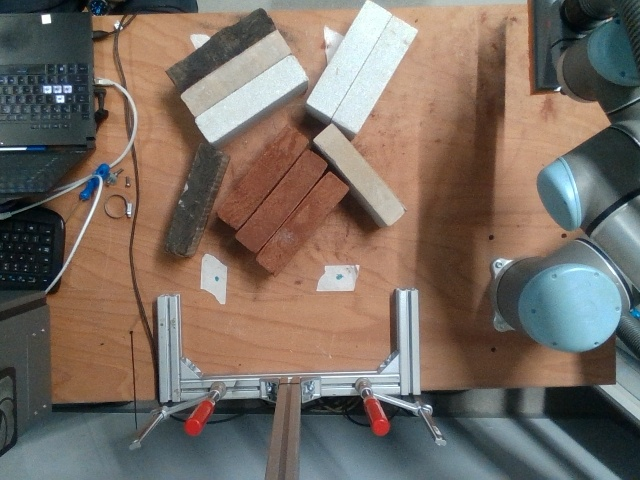brick-side: (258, 172, 346, 274), (238, 150, 326, 252), (218, 125, 306, 227), (197, 57, 304, 140), (309, 3, 390, 112), (316, 125, 404, 224), (182, 31, 288, 113), (334, 20, 414, 127), (170, 8, 274, 88), (162, 145, 219, 257)
